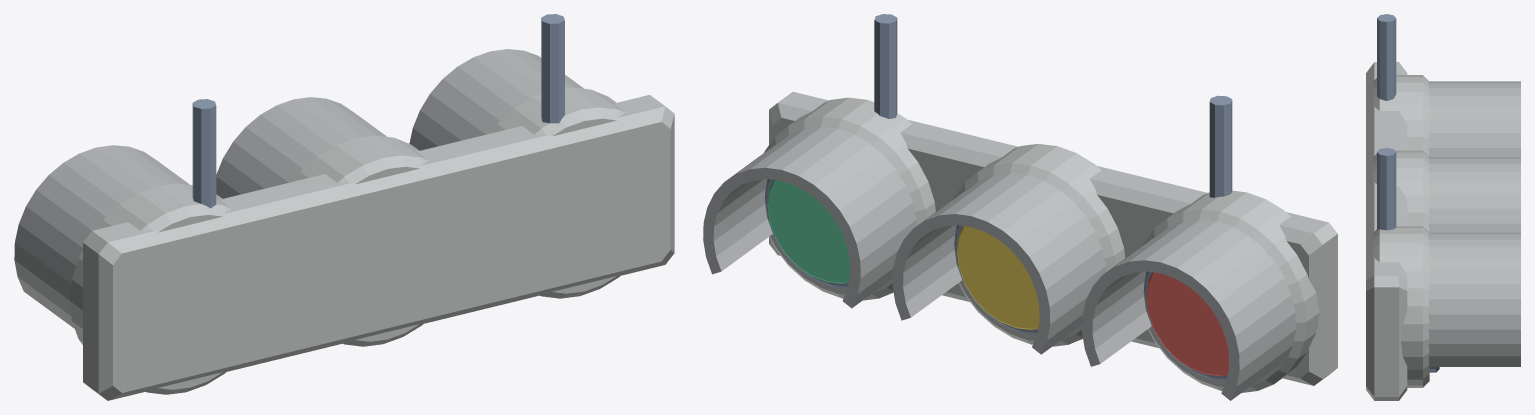
The model's file is HK_Signal_Car.glb.
3 views of the same model, side by side, from view 1: azimuth 30°, elevation 25°; view 2: azimuth 150°, elevation 25°; view 3: azimuth 270°, elevation 25° (orthographic). The views are drawn at different scales.
Parts seen in each view (by area): view 1: HK_Signal_Car_Housing; view 2: HK_Signal_Car_Housing, HK_Signal_Car_GreenLight, HK_Signal_Car_YellowLight, HK_Signal_Car_RedLight; view 3: HK_Signal_Car_Housing.
Part boxes in pixels (left/top/right/bottom): HK_Signal_Car_Housing: left=14, top=14, right=674, bottom=400; HK_Signal_Car_Housing: left=703, top=14, right=1337, bottom=400; HK_Signal_Car_GreenLight: left=767, top=180, right=850, bottom=283; HK_Signal_Car_YellowLight: left=957, top=226, right=1039, bottom=329; HK_Signal_Car_RedLight: left=1146, top=272, right=1228, bottom=376; HK_Signal_Car_Housing: left=1366, top=14, right=1520, bottom=400.
Size of the model in its own units: 1.52 by 0.705 by 0.45.
